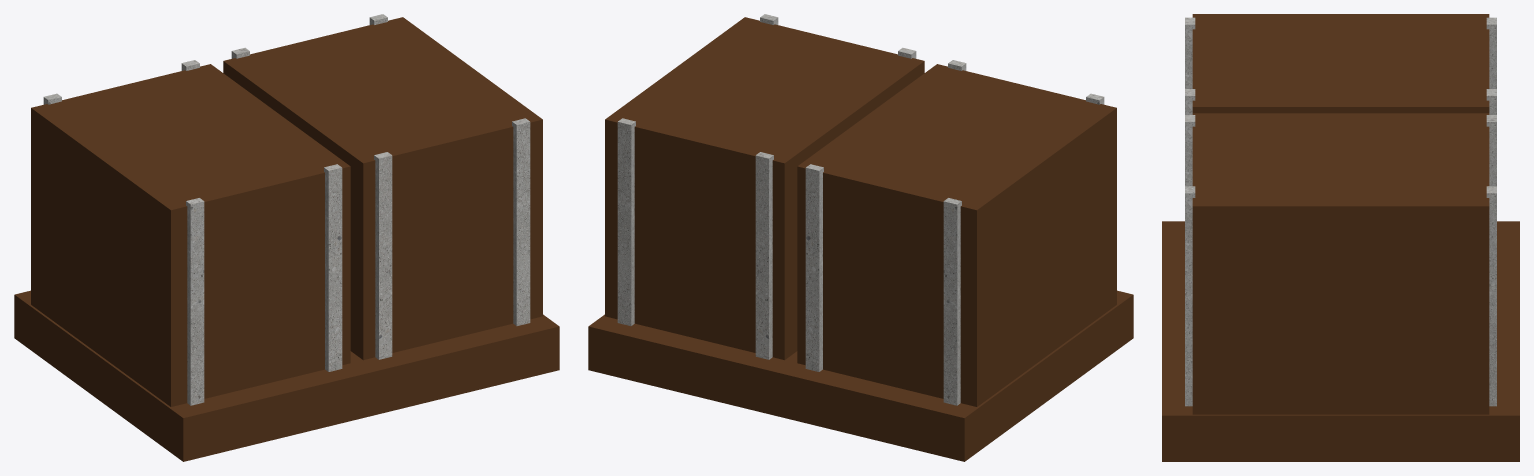
Rendered from pallet_crates.obj.
The picture shows the model from 3 angles, left to right: view 1: azimuth 30°, elevation 25°; view 2: azimuth 150°, elevation 25°; view 3: azimuth 270°, elevation 25°; orthographic projection. The views are drawn at different scales.
Parts seen in each view (by area): view 1: Wood, Warm_Plaster; view 2: Wood, Warm_Plaster; view 3: Wood, Warm_Plaster.
Part boxes in pixels (box(x1,y1,x2,y2)): Wood: box(14, 17, 559, 461); Warm_Plaster: box(43, 14, 530, 405); Wood: box(588, 17, 1133, 461); Warm_Plaster: box(617, 14, 1104, 405); Wood: box(1162, 14, 1519, 461); Warm_Plaster: box(1185, 17, 1496, 406).
Bounding box in the file's own units: 1.8 × 1.12 × 1.4.
